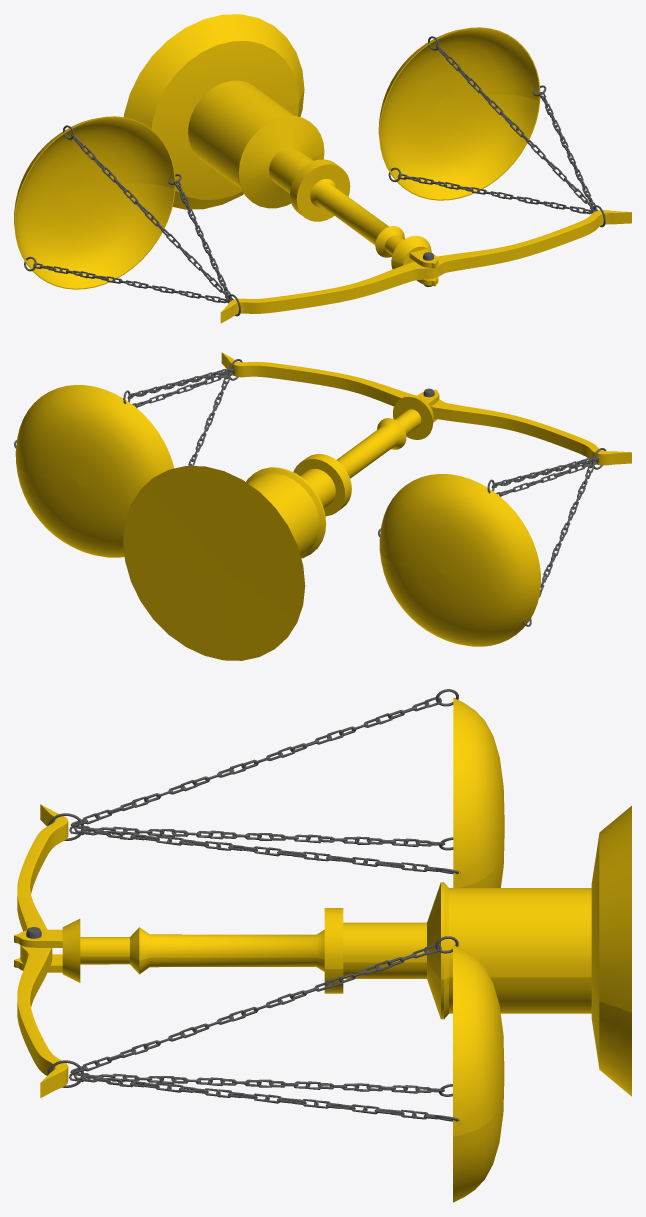
Rendered from Chain_L.fbx.
3 renders of one model, top to bottom at view 1: azimuth 30°, elevation 25°; view 2: azimuth 150°, elevation 25°; view 3: azimuth 270°, elevation 25°, orthographic. The views are drawn at different scales.
Visible parts, largest first — view 1: Body.004, Body.001, Body.005, Body.006, Body.002; view 2: Body.004, Body.001, Body.005, Body.006, Body.002; view 3: Body.001, Body.004, Body.002, Body.006, Body.005.
Part boxes in pixels (x1=…): Body.004: x1=14, y1=27, x2=540, y2=289; Body.001: x1=123, y1=14, x2=438, y2=286; Body.005: x1=220, y1=210, x2=631, y2=323; Body.006: x1=24, y1=125, x2=240, y2=316; Body.002: x1=388, y1=36, x2=605, y2=227; Body.004: x1=15, y1=385, x2=540, y2=646; Body.001: x1=123, y1=389, x2=439, y2=660; Body.005: x1=221, y1=352, x2=631, y2=465; Body.006: x1=378, y1=448, x2=606, y2=626; Body.002: x1=14, y1=359, x2=242, y2=465; Body.001: x1=14, y1=806, x2=631, y2=1096; Body.004: x1=453, y1=697, x2=504, y2=1202; Body.002: x1=47, y1=936, x2=459, y2=1121; Body.006: x1=48, y1=689, x2=460, y2=874; Body.005: x1=17, y1=804, x2=68, y2=1097.
Bounding box in the file's own units: 393 × 135 × 287.
